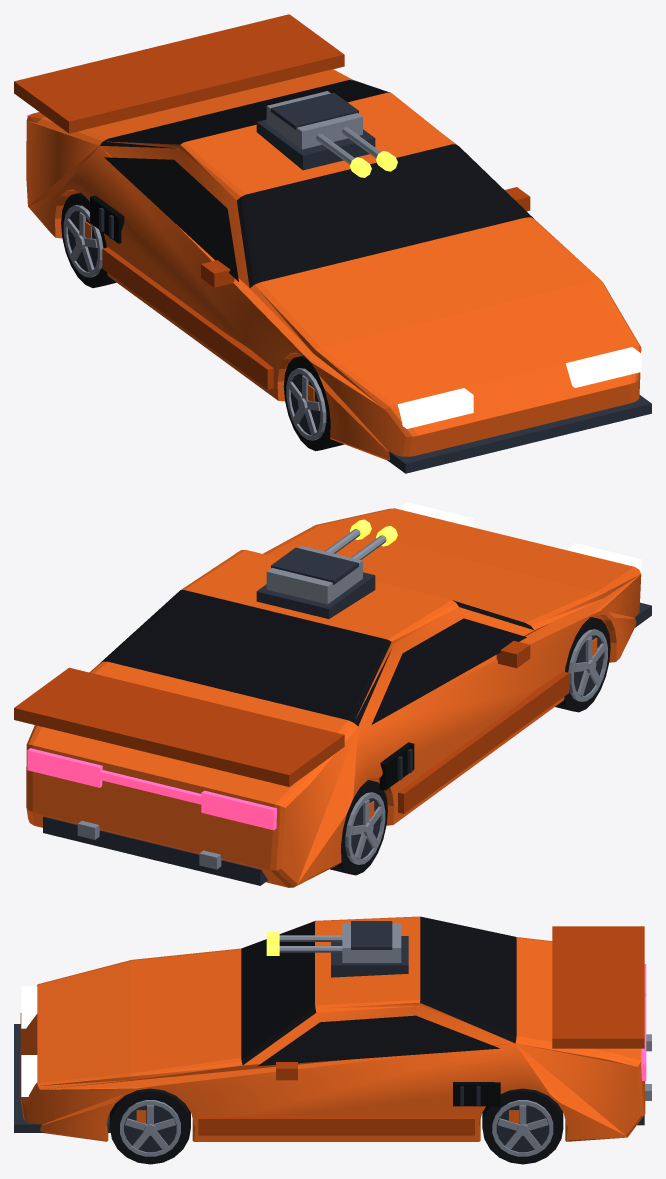
File: kestrel_gt.glb
3 renders of one model, top to bottom at view 1: azimuth 30°, elevation 25°; view 2: azimuth 150°, elevation 25°; view 3: azimuth 270°, elevation 25°, orthographic. The views are drawn at different scales.
Parts seen in each view (by area): view 1: chassis, gun, wheel_FR, wheel_RR; view 2: chassis, gun, wheel_RR, wheel_FR; view 3: chassis, wheel_FL, wheel_RL, gun.
Part boxes in pixels (<box>): chassis: <box>14,14,651,473</box>; gun: <box>266,91,397,177</box>; wheel_FR: <box>283,355,344,451</box>; wheel_RR: <box>61,192,116,287</box>; chassis: <box>14,502,651,887</box>; gun: <box>266,519,397,604</box>; wheel_RR: <box>330,780,387,875</box>; wheel_FR: <box>555,617,610,712</box>; chassis: <box>14,916,651,1141</box>; wheel_FL: <box>110,1088,190,1164</box>; wheel_RL: <box>482,1088,563,1164</box>; gun: <box>266,921,401,962</box>.
Size of the model in its own units: 2.18 by 1.37 by 4.56.
